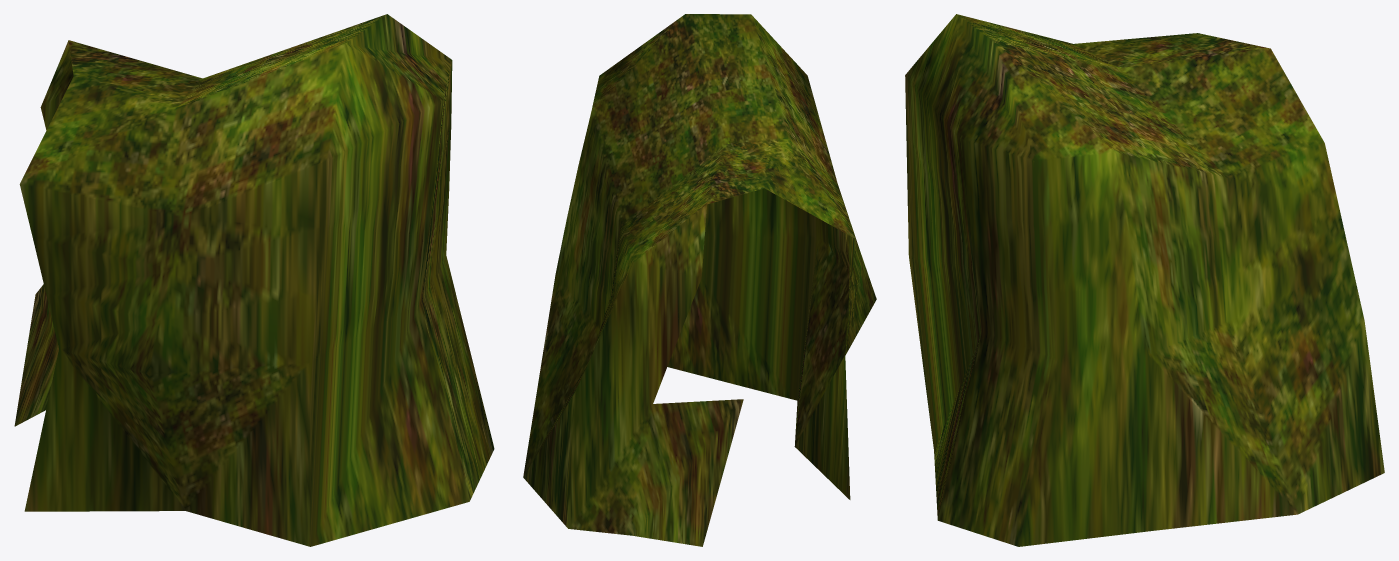
File: TROLLHOLE02_BOX323.fbx
The picture shows the model from 3 angles, left to right: view 1: azimuth 30°, elevation 25°; view 2: azimuth 150°, elevation 25°; view 3: azimuth 270°, elevation 25°; orthographic projection. The views are drawn at different scales.
Visible parts, largest first — view 1: TROLLHOLE02_BOX323; view 2: TROLLHOLE02_BOX323; view 3: TROLLHOLE02_BOX323.
Boxes of the visible parts, x1,y1,x2,y2 form: TROLLHOLE02_BOX323: (14, 14, 494, 546); TROLLHOLE02_BOX323: (523, 14, 876, 546); TROLLHOLE02_BOX323: (905, 14, 1384, 546).
Size of the model in its own units: 44521 by 51111 by 47527.
Materials: 1 (1 with a texture image).
